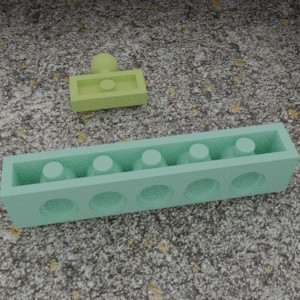lego: (0, 122, 299, 228), (69, 52, 147, 112)
